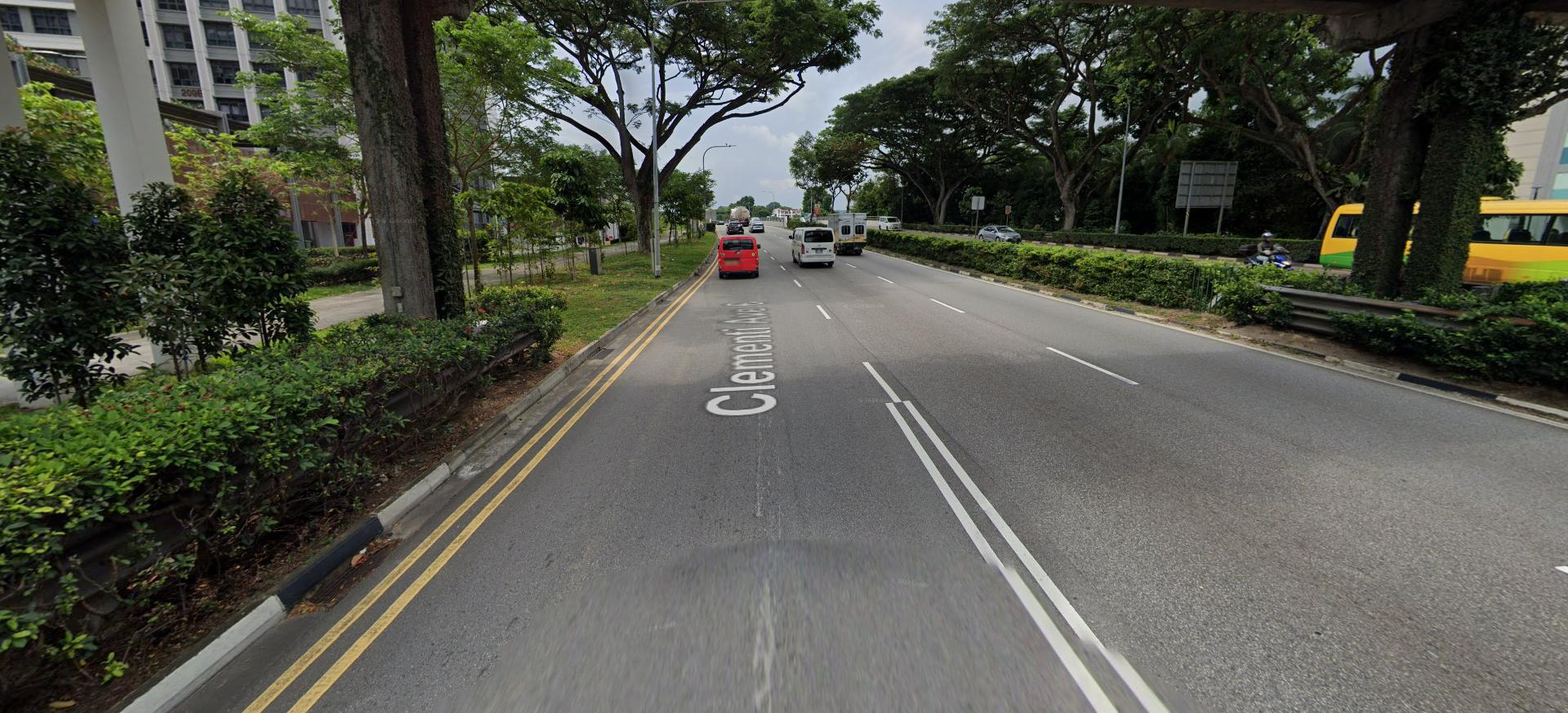normal: (301, 539, 409, 608)
